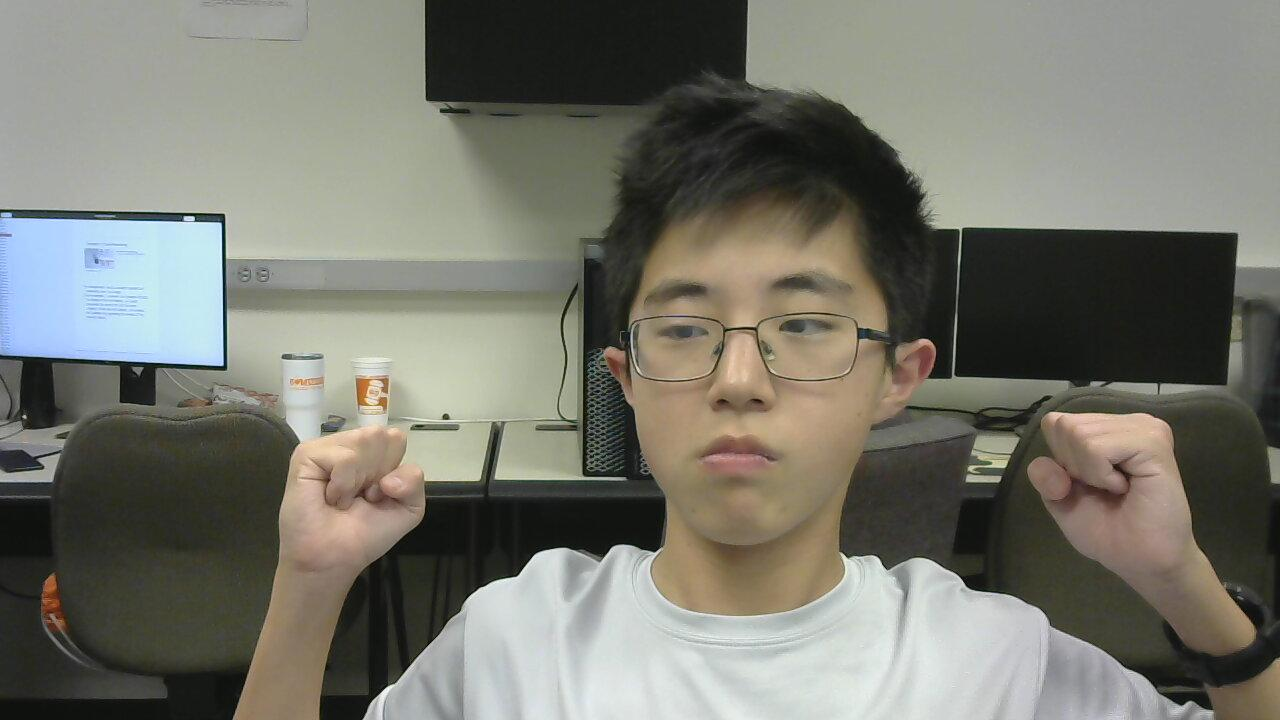fist: (1021, 382, 1230, 584), (246, 404, 426, 598)
